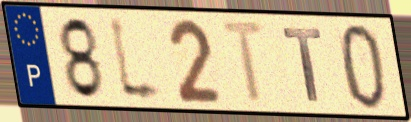0: (337, 21, 389, 112)
2: (167, 16, 226, 106)
8: (55, 12, 106, 103)
L: (105, 12, 170, 107)
T: (218, 18, 271, 107), (279, 26, 324, 104)
